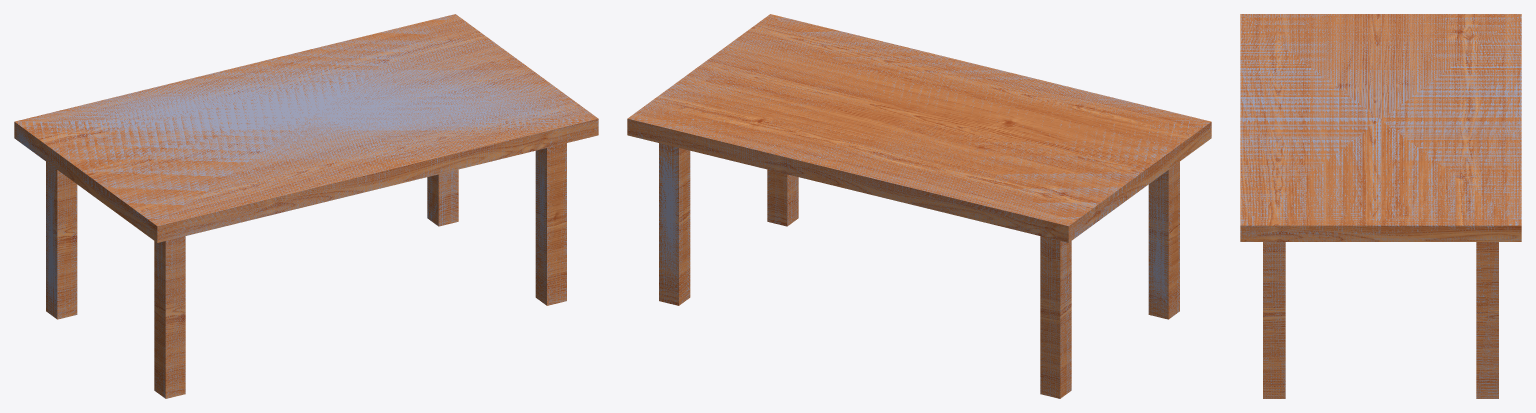
The model's file is Table.fbx.
The picture shows the model from 3 angles, left to right: view 1: azimuth 30°, elevation 25°; view 2: azimuth 150°, elevation 25°; view 3: azimuth 270°, elevation 25°; orthographic projection.
Parts seen in each view (by area): view 1: Model; view 2: Model; view 3: Model.
Boxes of the visible parts, x1,y1,x2,y2 form: Model: (14,14,598,398); Model: (627,14,1211,398); Model: (1240,14,1521,398).
Size of the model in its own units: 2.21 by 0.89 by 1.24.
